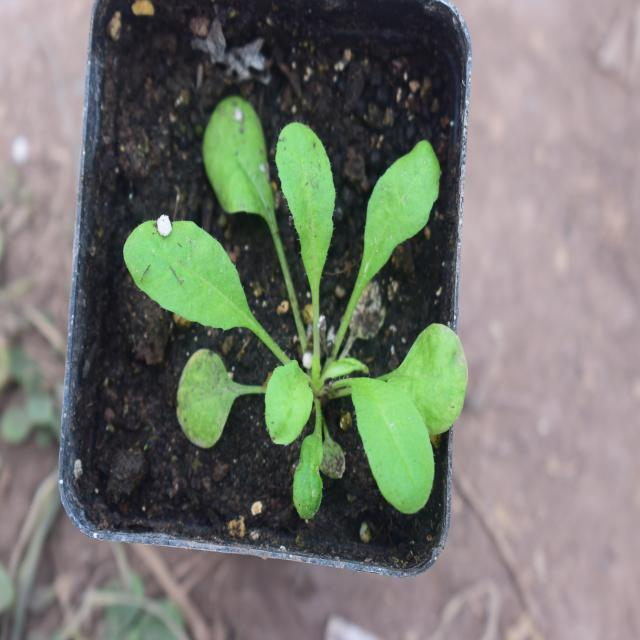Shepherd_Purse: (138, 113, 476, 511)
